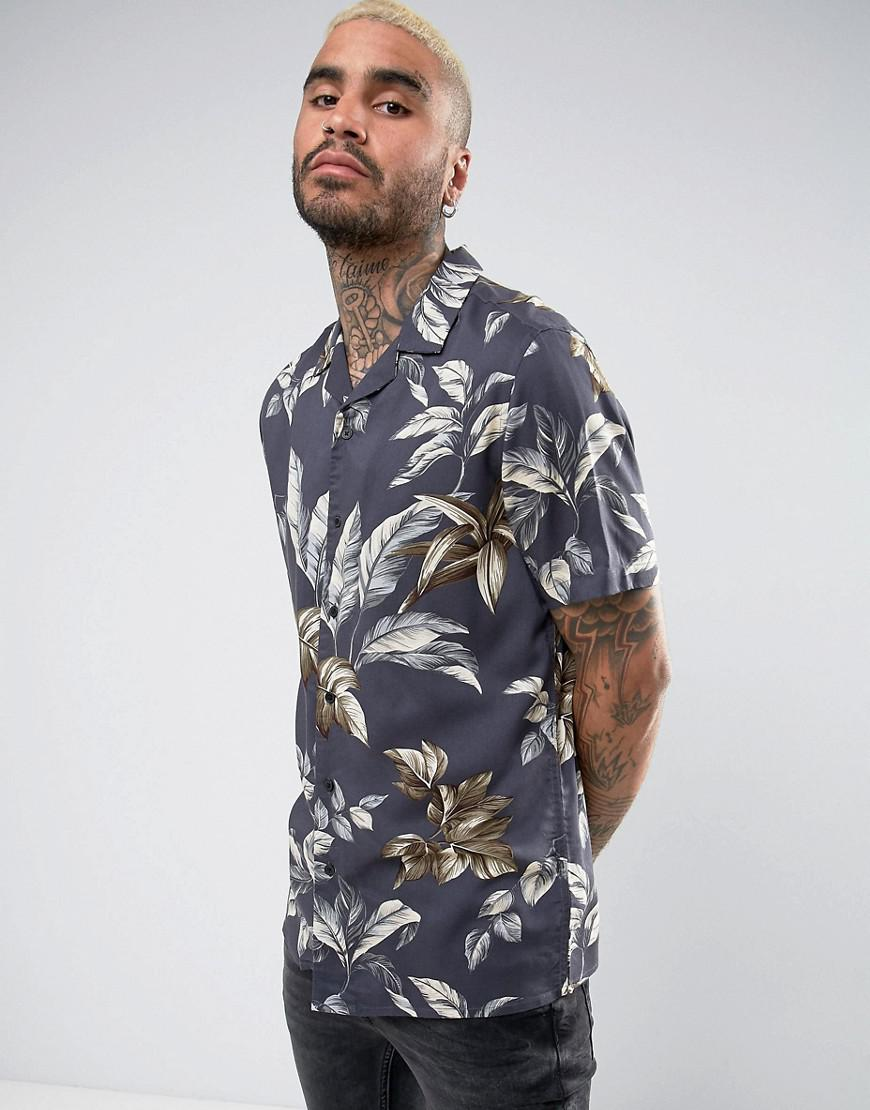teeshirt: (257, 240, 676, 1032)
